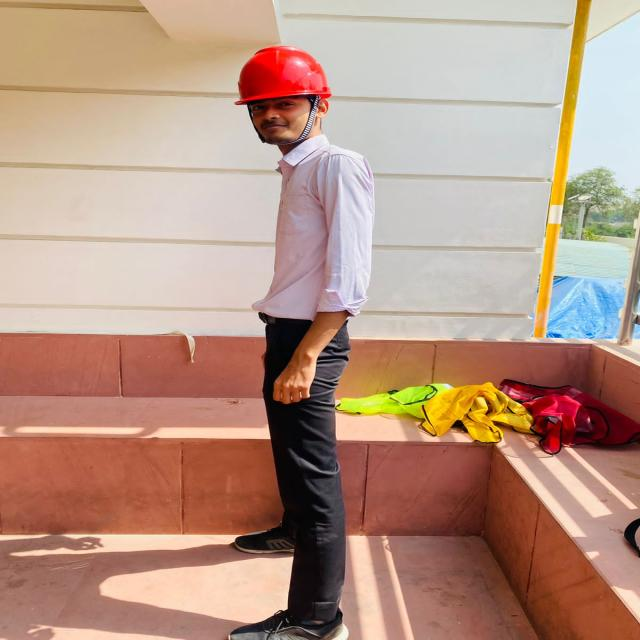no jacket: (232, 48, 370, 640)
